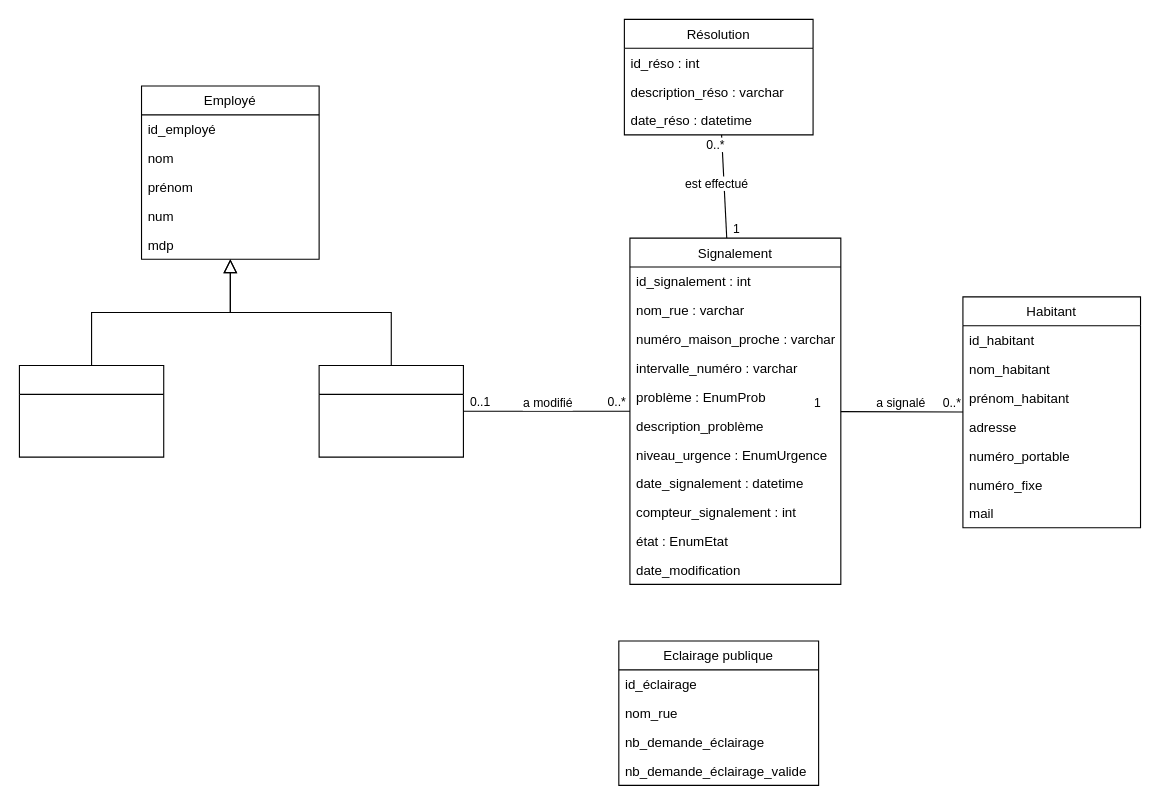
Some shapes in this 1160 by 808 pixel diagram are drawn without their labels. The centre of each missing label's shape, as x and y in pixels:
Agent: the point at 390,410
Responsable: the point at 91,410
